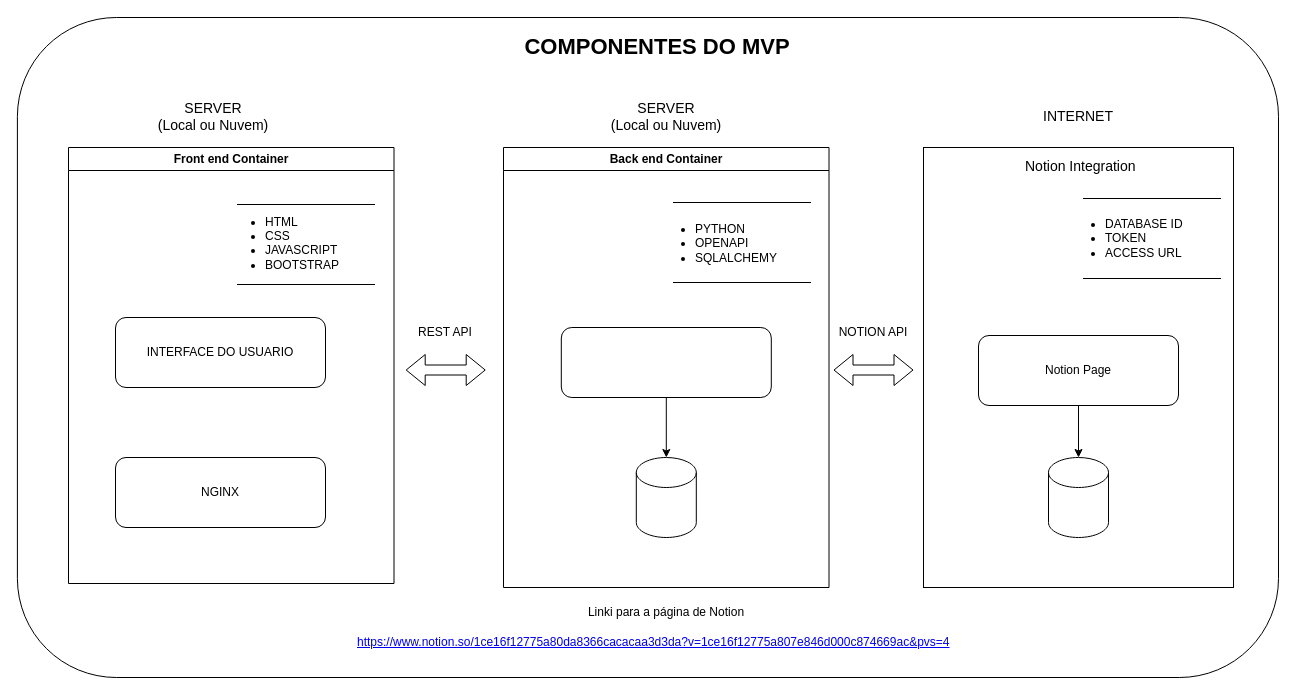
Image size: 1297x695. Some labels were removed from this diagram. The centre of each missing label's shape, as x and y in pixels:
"DB" goes at point (1078, 497).
"OpenAPI" goes at point (665, 362).
"SQLite" goes at point (665, 497).
